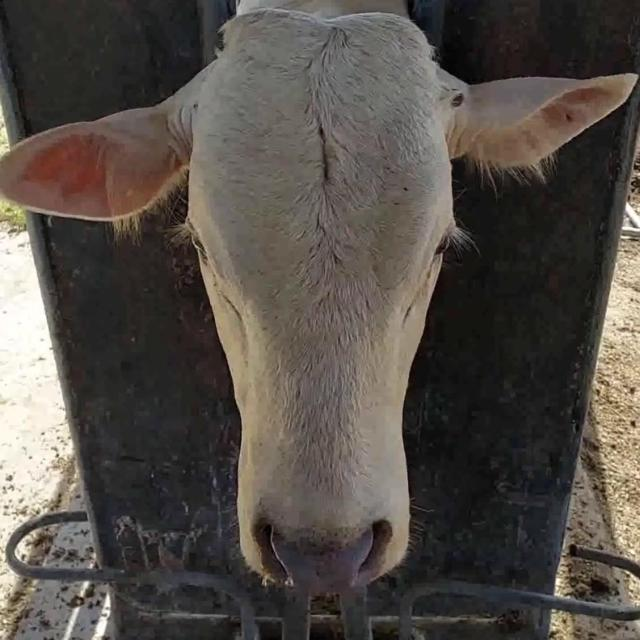cowFace: (197, 16, 463, 584)
